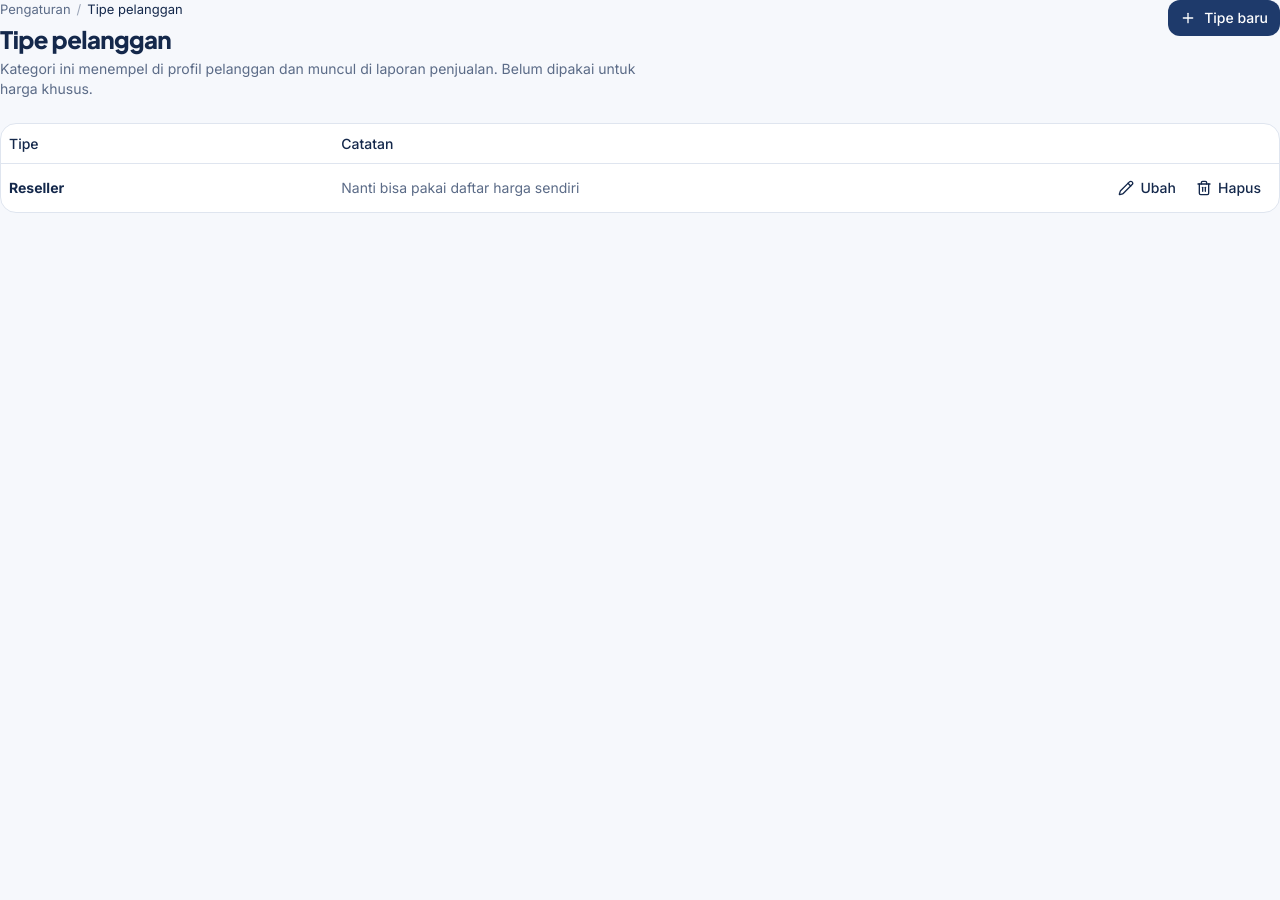
Scenario: CustomerTypesScreen › deletes a type after confirmation and refreshes the list
Click the button with aria-label "Hapus Reseller": coordinates (1228, 188) [1186,172,1271,204]
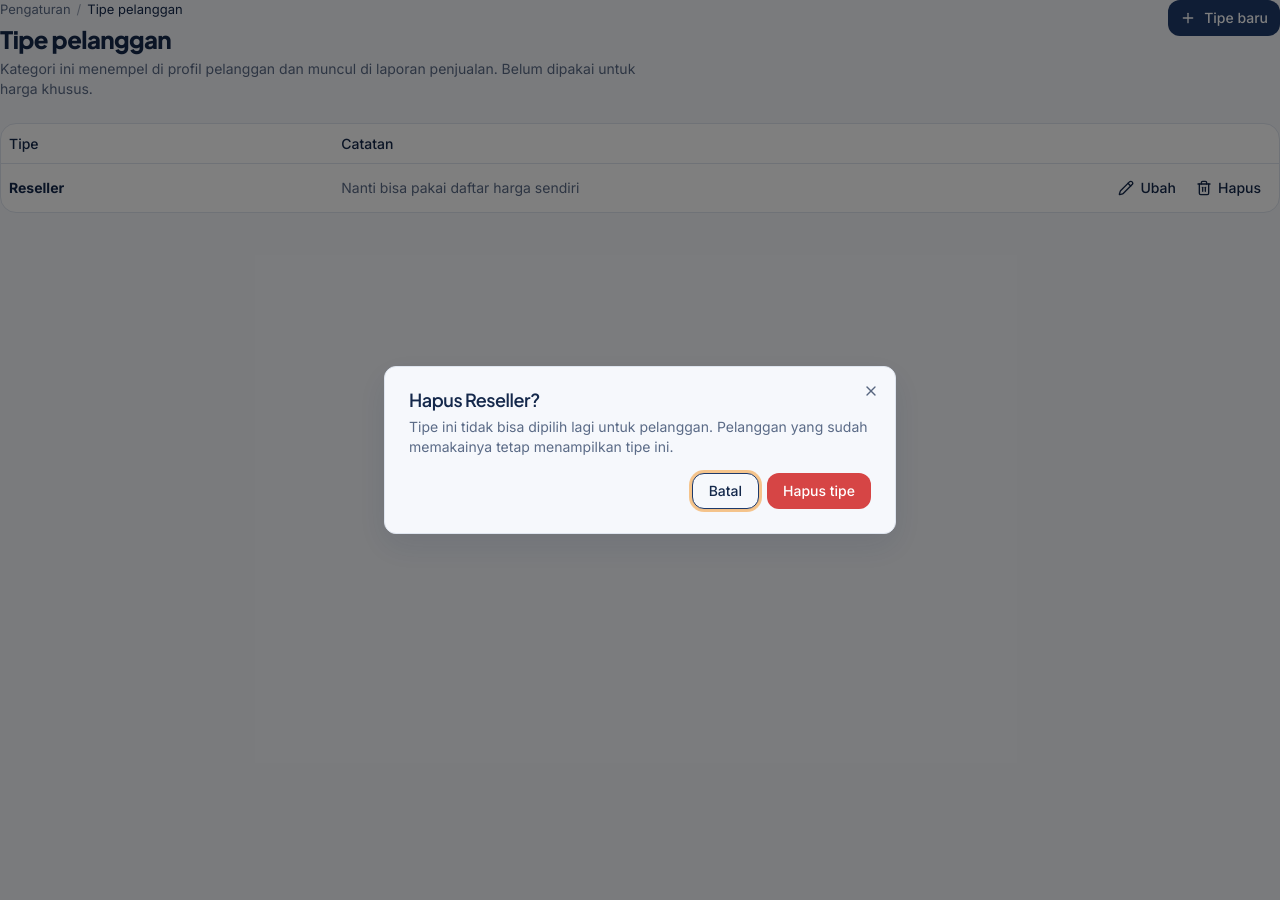
Click the button "Hapus tipe": coordinates (819, 491) [767,473,871,509]
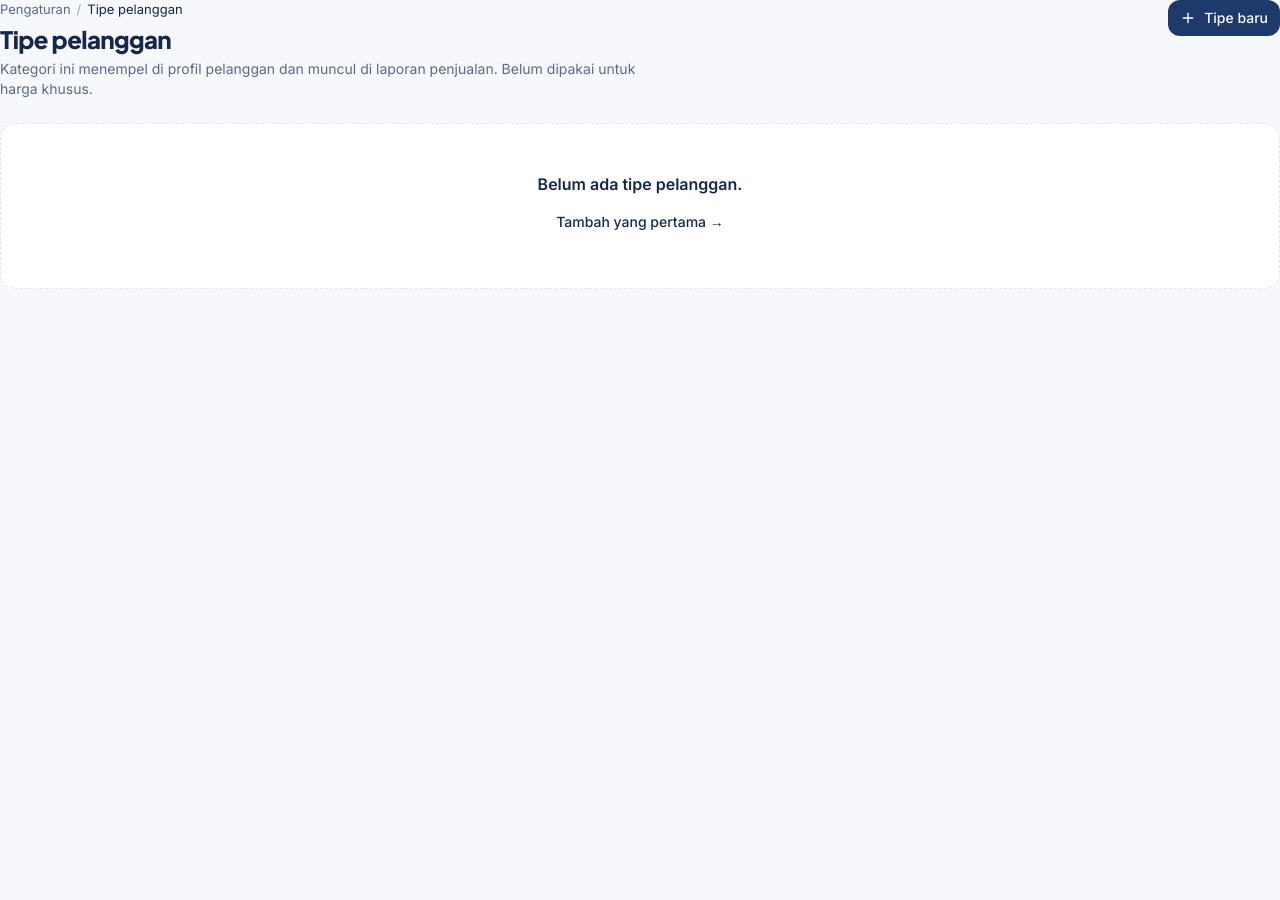
Expected: the text "Belum ada tipe pelanggan." is shown, [538,174,742,194]
